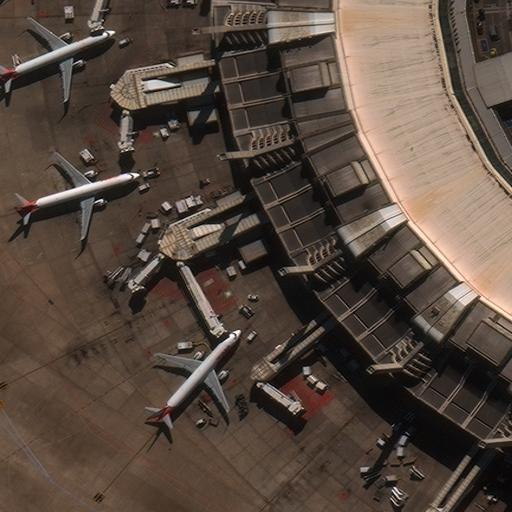Medium Civil Transport: (17, 152, 140, 236), (0, 17, 115, 97), (149, 330, 239, 418)
